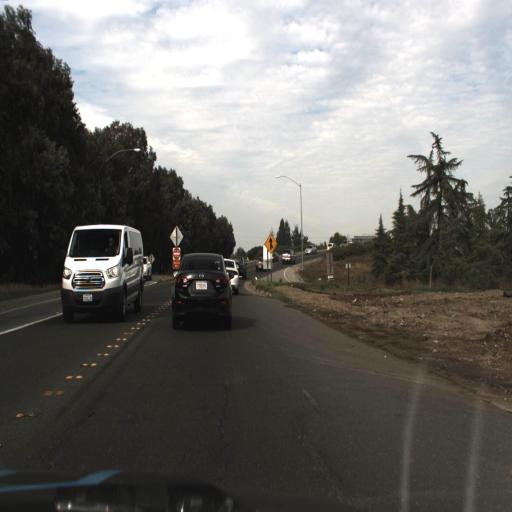car: (59, 223, 145, 325), (170, 248, 233, 334), (223, 250, 243, 300), (280, 244, 296, 263)
